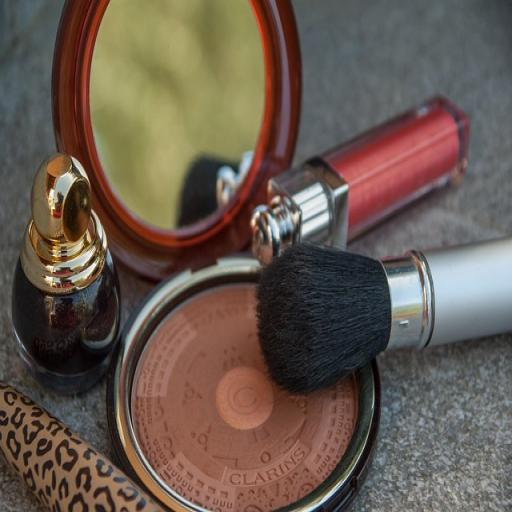lipstick: (252, 98, 469, 263)
